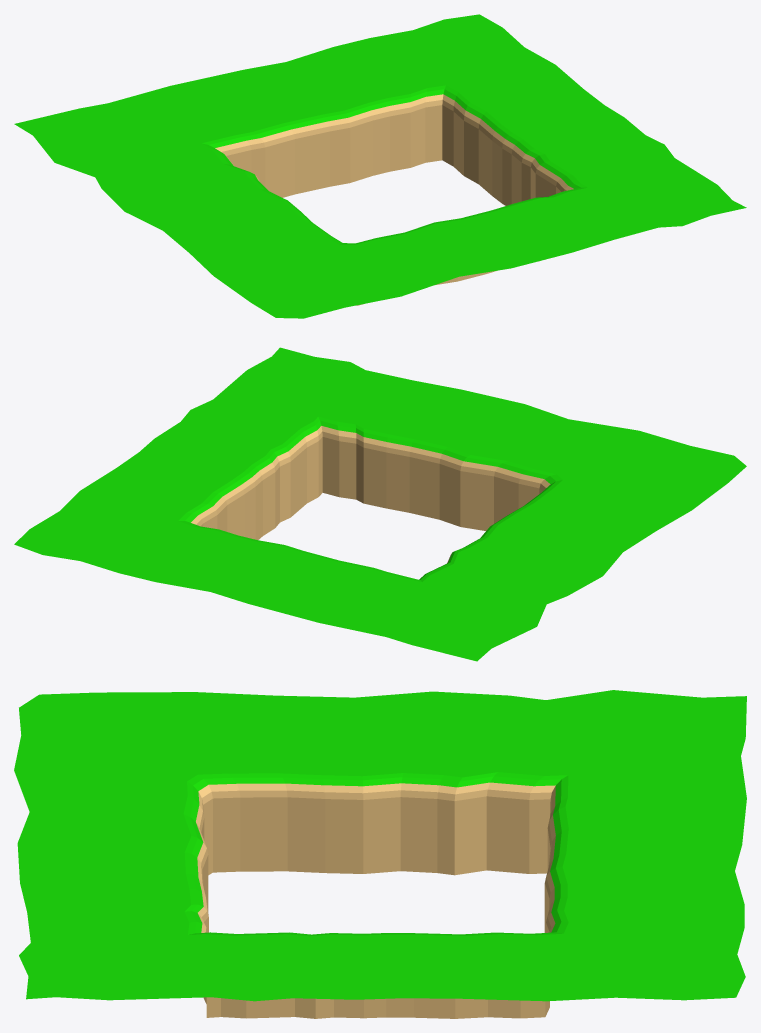
File: Klippen test.fbx
3 views of the same model, one above another, from view 1: azimuth 30°, elevation 25°; view 2: azimuth 150°, elevation 25°; view 3: azimuth 270°, elevation 25° (orthographic). The views are drawn at different scales.
Parts seen in each view (by area): view 1: Plane.001; view 2: Plane.001; view 3: Plane.001.
Part boxes in pixels (left/top/right/bottom): Plane.001: left=14, top=14, right=746, bottom=318; Plane.001: left=14, top=347, right=746, bottom=661; Plane.001: left=14, top=690, right=746, bottom=1018.
Size of the model in its own units: 41376 by 5600 by 41173.
